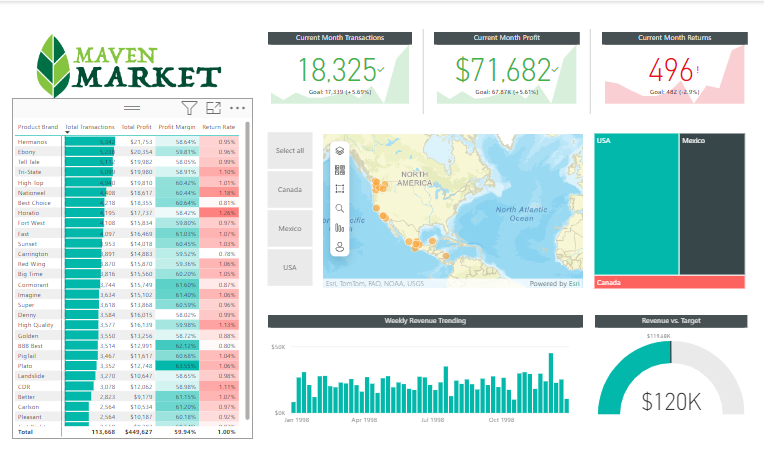

Layout of this report page (visuals, bound fields, positions):
{"tool":"powerbi","page":{"name":"Topline Performance","canvas":[1280,720],"ordinal":0},"visuals":[{"type":"image","box":[9.8,0,369.2,163.8],"z":0},{"type":"pivotTable","fields":{"Rows":["Products.product_brand"],"Values":["Measure Table.Total Transactions","Measure Table.Total Profit","Measure Table.Profit Margin","Measure Table.Return Rate"]},"box":[9.8,163.8,443.7,547.6],"z":1000},{"type":"kpi","title":"Current Month Transactions","fields":{"Indicator":["Measure Table.Total Transactions"],"TrendLine":["Calendar.Start of Month"],"Goal":["Measure Table.Last Month Transactions"]},"box":[496.3,23.2,267.7,129.6],"z":2000},{"type":"kpi","title":"Current Month Profit","fields":{"TrendLine":["Calendar.Start of Month"],"Indicator":["Measure Table.Total Profit"],"Goal":["Measure Table.Last Month Profit"]},"box":[772.6,23.2,254.3,129.6],"z":3000},{"type":"kpi","title":"Current Month Returns","fields":{"TrendLine":["Calendar.Start of Month"],"Indicator":["Measure Table.Total Returned"],"Goal":["Measure Table.Last Month Returns"]},"box":[1035.4,23.2,232.3,129.6],"z":4000},{"type":"map","fields":{"Category":["Stores.store_city"],"Size":["Measure Table.Total Transactions"]},"box":[601.4,163.8,396.1,331.3],"z":5000},{"type":"slicer","fields":{"Values":["Stores.store_country"]},"box":[467,163.8,134.5,321.5],"z":6000},{"type":"treemap","fields":{"Group":["Stores.store_country Hierarchy.store_country","Stores.store_country Hierarchy.store_state","Stores.store_country Hierarchy.store_city"],"Values":["Measure Table.Total Transactions"]},"box":[997.5,163.8,282.4,331.3],"z":7000},{"type":"clusteredColumnChart","title":"Weekly Revenue Trending","fields":{"Y":["Measure Table.Total Revenue"],"Category":["Calendar.Start of Week"]},"box":[496.3,495.1,501.2,216.4],"z":8000},{"type":"gauge","title":"Revenue vs Target","fields":{"Y":["Measure Table.Total Revenue"],"TargetValue":["Measure Table.Revenue Target"]},"box":[997,495,282,216],"z":9000}]}

Visuals, with their boxes on the page's 1280x720 design canvas (x1, y1, x2, y2). These are canvas units, not pixel positions in the 764x451 screenshot, which may show the page scaled, cropped or inside an application window:
image: rect(10, 0, 379, 164)
pivotTable - Products.product_brand x Measure Table.Total Transactions: rect(10, 164, 454, 711)
"Current Month Transactions" kpi: rect(496, 23, 764, 153)
"Current Month Profit" kpi: rect(773, 23, 1027, 153)
"Current Month Returns" kpi: rect(1035, 23, 1268, 153)
map - Stores.store_city x Measure Table.Total Transactions: rect(601, 164, 998, 495)
slicer - Stores.store_country: rect(467, 164, 602, 485)
treemap - Stores.store_country Hierarchy.store_country x Stores.store_country Hierarchy.store_state: rect(998, 164, 1280, 495)
"Weekly Revenue Trending" clusteredColumnChart: rect(496, 495, 998, 712)
"Revenue vs Target" gauge: rect(997, 495, 1279, 711)
